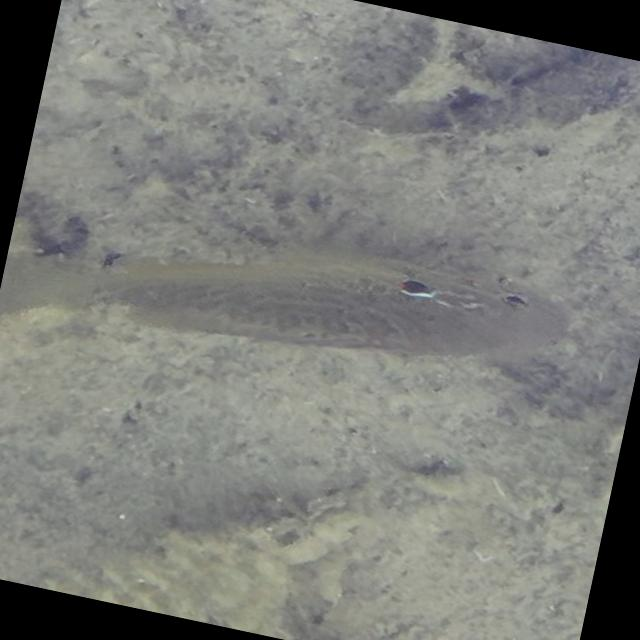Gunes Levregi: (0, 176, 582, 435)
